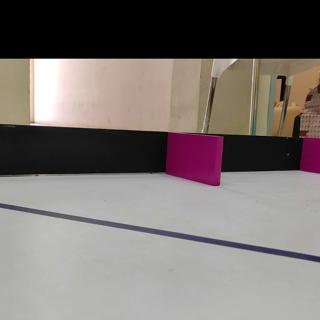xparking: (171, 135, 221, 180), (305, 138, 320, 171)
